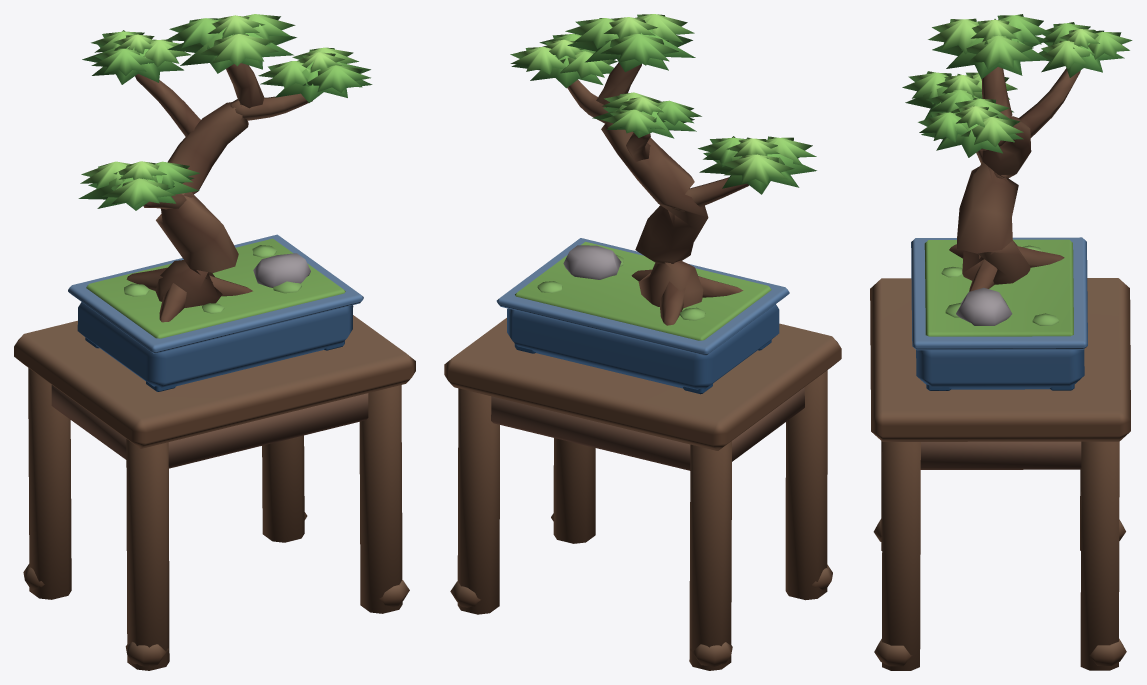
The model's file is furn-bonsaiStand.glb.
The picture shows the model from 3 angles, left to right: view 1: azimuth 30°, elevation 25°; view 2: azimuth 150°, elevation 25°; view 3: azimuth 270°, elevation 25°; orthographic projection. The views are drawn at different scales.
Visible parts, largest first — view 1: furn; view 2: furn; view 3: furn.
Boxes of the visible parts, x1=… form: furn: x1=14, y1=14, x2=415, y2=670; furn: x1=444, y1=14, x2=841, y2=670; furn: x1=870, y1=14, x2=1132, y2=670.
Size of the model in its own units: 0.4481 by 0.8556 by 0.3438.
